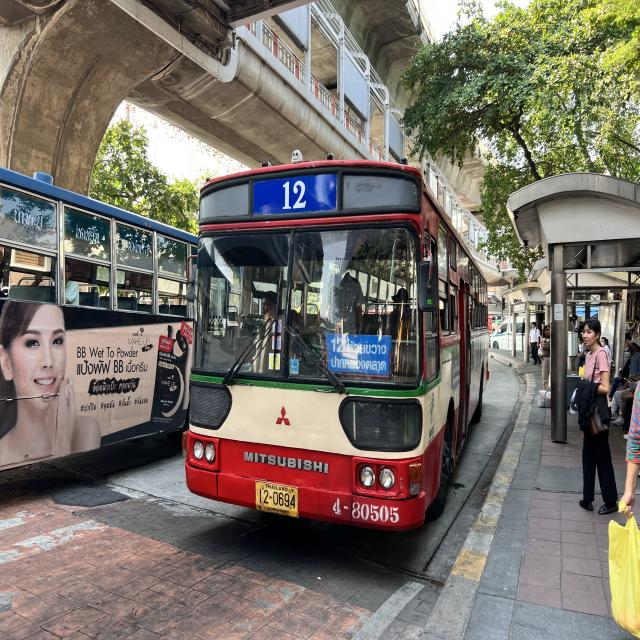BMTA-bus: (182, 159, 488, 537)
Bus-Line-Number: (243, 174, 342, 217)
Destination-Sign-Normal: (324, 328, 397, 384)
